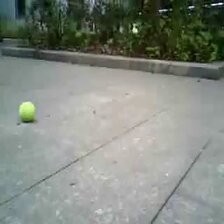tennis: (18, 101, 35, 120)
